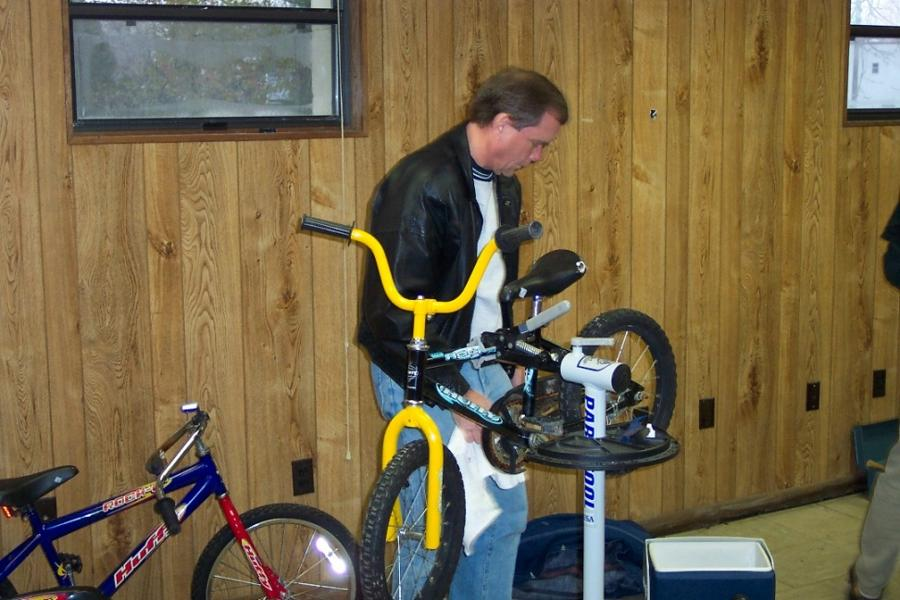person: (356, 68, 569, 600)
